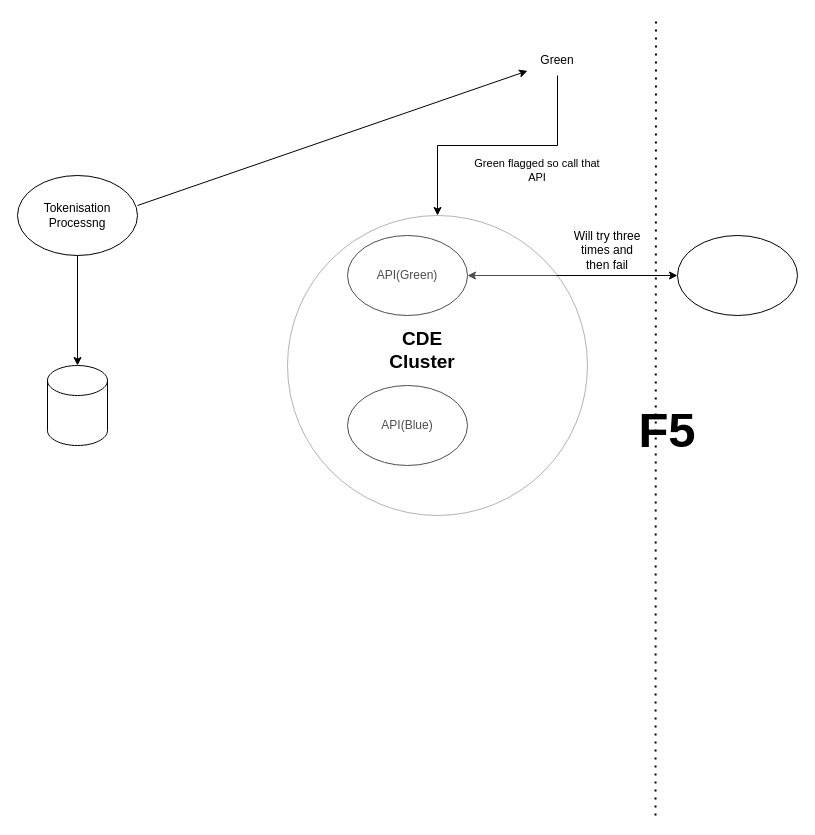
Some shapes in this 815 by 835 pixel diagram are drawn without their labels. Here are the shapes that lost their labels. From the top down, the centre of each, then its label:
(x=737, y=275): Worldline/Ingenico
(x=77, y=405): TPOS Database
